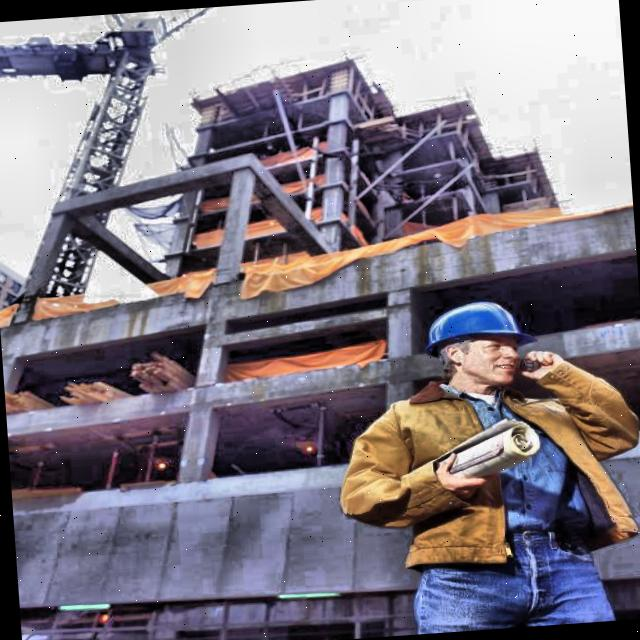helmet: (414, 287, 546, 398)
